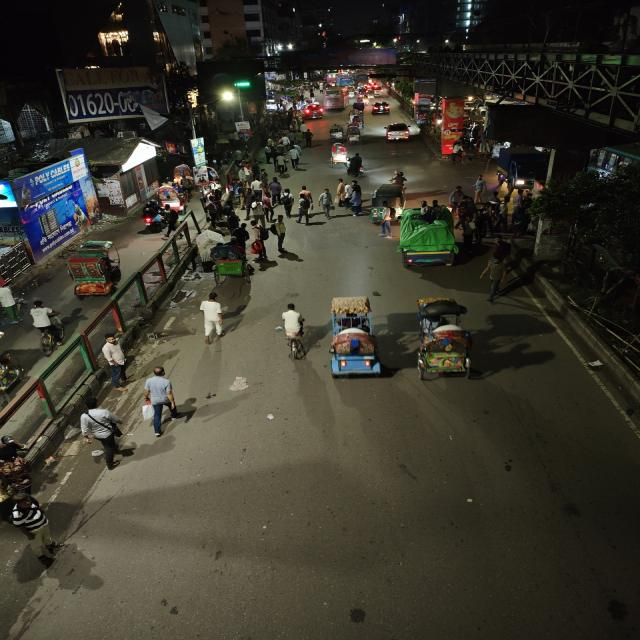bicycle: (26, 298, 72, 354), (278, 304, 309, 361)
bus: (321, 87, 346, 110)
car: (385, 121, 413, 143), (370, 100, 392, 116)
motorcycle: (138, 199, 168, 233)
pedestrian: (139, 366, 177, 436), (80, 417, 128, 469), (96, 332, 132, 392), (194, 291, 228, 345), (277, 302, 308, 361), (479, 257, 520, 297), (268, 216, 292, 252), (344, 181, 365, 217), (470, 208, 491, 244), (293, 190, 314, 224), (449, 220, 473, 248), (316, 188, 334, 218), (448, 184, 468, 210), (346, 152, 366, 178), (278, 186, 294, 214), (288, 144, 303, 168), (275, 151, 290, 175), (252, 202, 266, 227), (268, 176, 283, 198), (335, 177, 347, 201), (298, 184, 312, 202)
pickup_van: (393, 213, 464, 271)
rickshaw: (409, 296, 481, 382), (322, 293, 388, 382), (61, 242, 127, 298), (206, 242, 255, 286), (328, 142, 350, 168), (345, 124, 364, 144), (347, 114, 366, 134), (326, 124, 346, 142)
